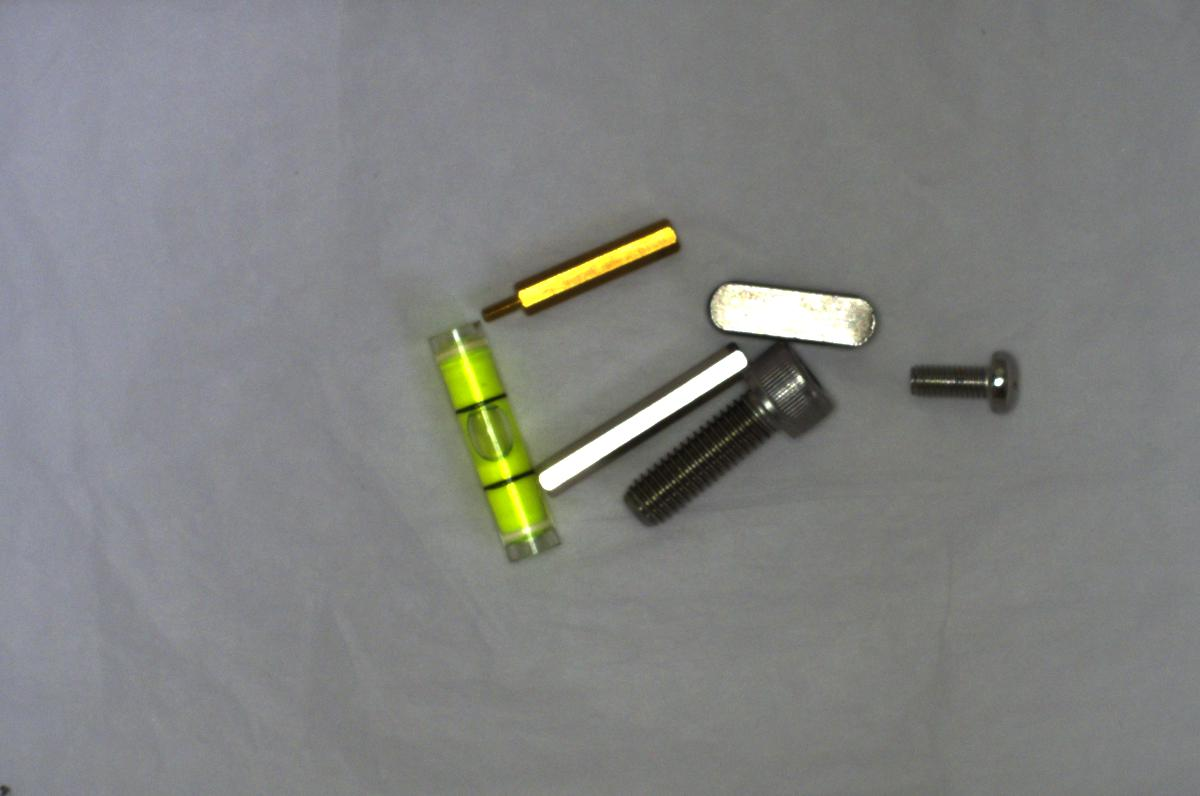Double hexagonal column: (533, 341, 755, 493)
Hexagon pillar: (475, 225, 690, 325)
Hexagon screw: (601, 345, 846, 530)
Horizontal bubble: (427, 319, 560, 562)
Keybar: (698, 270, 881, 354)
Round head screw: (902, 342, 1034, 420)
